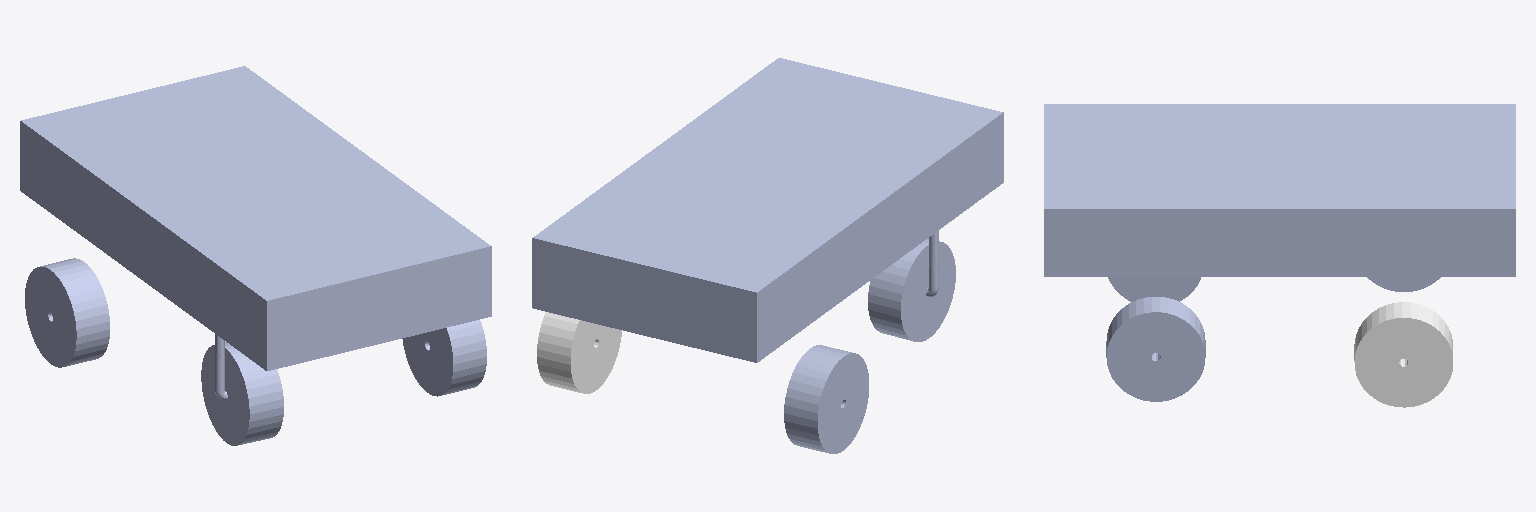
The robot description file, URDF, robot "4-w robot":
<?xml version="1.0" encoding="utf-8"?>
<!-- This URDF was automatically created by SolidWorks to URDF Exporter! Originally created by [author] ([email redacted]) 
     Commit Version: 1.6.0-4-g7f85cfe  Build Version: 1.6.7995.38578
     For more information, please see http://wiki.ros.org/sw_urdf_exporter -->
<robot
  name="4-w robot">
  <link
    name="base_link">
    <inertial>
      <origin
        xyz="0.32815 0.63195 0.72248"
        rpy="0 0 0" />
      <mass
        value="74.58" />
      <inertia
        ixx="5.9363"
        ixy="-1.0346E-14"
        ixz="4.269E-16"
        iyy="7.3965"
        iyz="9.6698E-17"
        izz="1.7491" />
    </inertial>
    <visual>
      <origin
        xyz="0 0 0"
        rpy="0 0 0" />
      <geometry>
        <mesh
          filename="package://4-w robot/meshes/base_link.STL" />
      </geometry>
      <material
        name="">
        <color
          rgba="0.79216 0.81961 0.93333 1" />
      </material>
    </visual>
    <collision>
      <origin
        xyz="0 0 0"
        rpy="0 0 0" />
      <geometry>
        <mesh
          filename="package://4-w robot/meshes/base_link.STL" />
      </geometry>
    </collision>
  </link>
  <link
    name="frontrightwheellink">
    <inertial>
      <origin
        xyz="-0.058668 0.0064681 0"
        rpy="0 0 0" />
      <mass
        value="0.056363" />
      <inertia
        ixx="1.2321E-05"
        ixy="-2.1388E-05"
        ixz="3.5958E-20"
        iyy="0.00014386"
        iyz="-1.2705E-20"
        izz="0.00015362" />
    </inertial>
    <visual>
      <origin
        xyz="0 0 0"
        rpy="0 0 0" />
      <geometry>
        <mesh
          filename="package://4-w robot/meshes/frontrightwheellink.STL" />
      </geometry>
      <material
        name="">
        <color
          rgba="0.79216 0.81961 0.93333 1" />
      </material>
    </visual>
    <collision>
      <origin
        xyz="0 0 0"
        rpy="0 0 0" />
      <geometry>
        <mesh
          filename="package://4-w robot/meshes/frontrightwheellink.STL" />
      </geometry>
    </collision>
  </link>
  <joint
    name="frontrightwheellinkjoint"
    type="revolute">
    <origin
      xyz="0.099545 -0.97648 0.40333"
      rpy="1.6082 1.5708 0" />
    <parent
      link="base_link" />
    <child
      link="frontrightwheellink" />
    <axis
      xyz="0 0 0" />
    <limit
      lower="0"
      upper="0"
      effort="0"
      velocity="0" />
  </joint>
  <link
    name="frontrightwheel">
    <inertial>
      <origin
        xyz="-1.1102E-16 0.0408 -1.1102E-16"
        rpy="0 0 0" />
      <mass
        value="2.4494" />
      <inertia
        ixx="0.0075617"
        ixy="-7.5783E-18"
        ixz="1.6941E-21"
        iyy="0.012753"
        iyz="-1.4339E-17"
        izz="0.0075617" />
    </inertial>
    <visual>
      <origin
        xyz="0 0 0"
        rpy="0 0 0" />
      <geometry>
        <mesh
          filename="package://4-w robot/meshes/frontrightwheel.STL" />
      </geometry>
      <material
        name="">
        <color
          rgba="0.79216 0.81961 0.93333 1" />
      </material>
    </visual>
    <collision>
      <origin
        xyz="0 0 0"
        rpy="0 0 0" />
      <geometry>
        <mesh
          filename="package://4-w robot/meshes/frontrightwheel.STL" />
      </geometry>
    </collision>
  </link>
  <joint
    name="frontrightwheeljoint"
    type="fixed">
    <origin
      xyz="0 0.01 0"
      rpy="3.1416 0.0027121 3.1416" />
    <parent
      link="frontrightwheellink" />
    <child
      link="frontrightwheel" />
    <axis
      xyz="0 0 0" />
  </joint>
  <link
    name="frontleftwheellink">
    <inertial>
      <origin
        xyz="-0.058668365874023 0.00646808125522658 0"
        rpy="0 0 0" />
      <mass
        value="0.056363037029715" />
      <inertia
        ixx="1.23212695505758E-05"
        ixy="-2.13878982488817E-05"
        ixz="-7.23607224845394E-20"
        iyy="0.000143856643975693"
        iyz="-6.59032849782056E-21"
        izz="0.00015362112764556" />
    </inertial>
    <visual>
      <origin
        xyz="0 0 0"
        rpy="0 0 0" />
      <geometry>
        <mesh
          filename="package://4-w robot/meshes/frontleftwheellink.STL" />
      </geometry>
      <material
        name="">
        <color
          rgba="0.792156862745098 0.819607843137255 0.933333333333333 1" />
      </material>
    </visual>
    <collision>
      <origin
        xyz="0 0 0"
        rpy="0 0 0" />
      <geometry>
        <mesh
          filename="package://4-w robot/meshes/frontleftwheellink.STL" />
      </geometry>
    </collision>
  </link>
  <joint
    name="frontleftwheellinkjoint"
    type="fixed">
    <origin
      xyz="0.55675 -0.97648 0.40333"
      rpy="1.5708 1.5708 0" />
    <parent
      link="base_link" />
    <child
      link="frontleftwheellink" />
    <axis
      xyz="0 0 0" />
  </joint>
  <link
    name="frontleftwheel">
    <inertial>
      <origin
        xyz="-5.5511E-17 0.0381 -2.2204E-16"
        rpy="0 0 0" />
      <mass
        value="2.4494" />
      <inertia
        ixx="0.0075617"
        ixy="-7.0137E-18"
        ixz="4.7432E-33"
        iyy="0.012753"
        iyz="-3.6826E-18"
        izz="0.0075617" />
    </inertial>
    <visual>
      <origin
        xyz="0 0 0"
        rpy="0 0 0" />
      <geometry>
        <mesh
          filename="package://4-w robot/meshes/frontleftwheel.STL" />
      </geometry>
      <material
        name="">
        <color
          rgba="0.79216 0.81961 0.93333 1" />
      </material>
    </visual>
    <collision>
      <origin
        xyz="0 0 0"
        rpy="0 0 0" />
      <geometry>
        <mesh
          filename="package://4-w robot/meshes/frontleftwheel.STL" />
      </geometry>
    </collision>
  </link>
  <joint
    name="frontleftwheeljoint"
    type="continuous">
    <origin
      xyz="0 0.0889 0"
      rpy="0 0 3.1416" />
    <parent
      link="frontleftwheellink" />
    <child
      link="frontleftwheel" />
    <axis
      xyz="0 0 0" />
  </joint>
  <link
    name="backrightwheel">
    <inertial>
      <origin
        xyz="-3.05311331771918E-16 0.038100000000002 -2.22044604925031E-16"
        rpy="0 0 0" />
      <mass
        value="2.44939228473986" />
      <inertia
        ixx="0.00756174281198395"
        ixy="-5.7592835610494E-18"
        ixz="-2.16840434497101E-19"
        iyy="0.0127531107343337"
        iyz="4.41673265115696E-18"
        izz="0.00756174281198395" />
    </inertial>
    <visual>
      <origin
        xyz="0 0 0"
        rpy="0 0 0" />
      <geometry>
        <mesh
          filename="package://4-w robot/meshes/backrightwheel.STL" />
      </geometry>
      <material
        name="">
        <color
          rgba="0.792156862745098 0.819607843137255 0.933333333333333 1" />
      </material>
    </visual>
    <collision>
      <origin
        xyz="0 0 0"
        rpy="0 0 0" />
      <geometry>
        <mesh
          filename="package://4-w robot/meshes/backrightwheel.STL" />
      </geometry>
    </collision>
  </link>
  <joint
    name="backrightwheeljoint"
    type="continuous">
    <origin
      xyz="0.010645 -0.46848 0.39063"
      rpy="0 1.1039 -1.5708" />
    <parent
      link="base_link" />
    <child
      link="backrightwheel" />
    <axis
      xyz="0 1 0" />
  </joint>
  <link
    name="backleftwheel">
    <inertial>
      <origin
        xyz="0 0 0"
        rpy="0 0 0" />
      <mass
        value="0" />
      <inertia
        ixx="0"
        ixy="0"
        ixz="0"
        iyy="0"
        iyz="0"
        izz="0" />
    </inertial>
    <visual>
      <origin
        xyz="0 0 0"
        rpy="0 0 0" />
      <geometry>
        <mesh
          filename="package://4-w robot/meshes/backleftwheel.STL" />
      </geometry>
      <material
        name="">
        <color
          rgba="1 1 1 1" />
      </material>
    </visual>
    <collision>
      <origin
        xyz="0 0 0"
        rpy="0 0 0" />
      <geometry>
        <mesh
          filename="package://4-w robot/meshes/backleftwheel.STL" />
      </geometry>
    </collision>
  </link>
  <joint
    name="backleftwheeljoint"
    type="continuous">
    <origin
      xyz="0.569445167208001 -0.468481615855647 0.390627691768205"
      rpy="-3.14159265358979 -0.301241685280042 -1.5707963267949" />
    <parent
      link="base_link" />
    <child
      link="backleftwheel" />
    <axis
      xyz="0 1 0" />
  </joint>
</robot>

--- What the picture shows (computed from the rendered views, not written in the file) ---
Views: 3 orthographic renders of the robot side by side, from view 1: azimuth 30°, elevation 25°; view 2: azimuth 150°, elevation 25°; view 3: azimuth 270°, elevation 25°.
Robot: 4-w robot — 7 links, 6 joints (1 revolute, 3 continuous, 2 fixed); root link base_link; default pose: every joint at zero.
Links seen in each view (by area): view 1: base_link, backrightwheel, frontrightwheel, frontleftwheel, frontrightwheellink; view 2: base_link, backrightwheel, frontrightwheel, backleftwheel, frontrightwheellink; view 3: base_link, frontleftwheel, backleftwheel, frontrightwheel, backrightwheel.
Link boxes in pixels (x1,y1,x2,y2): base_link: (20,66,491,370); backrightwheel: (25,258,109,367); frontrightwheel: (201,342,283,445); frontleftwheel: (402,320,486,396); frontrightwheellink: (215,334,227,399); base_link: (532,58,1003,362); backrightwheel: (784,345,868,453); frontrightwheel: (868,238,955,341); backleftwheel: (537,312,621,393); frontrightwheellink: (926,231,938,296); base_link: (1044,104,1515,276); frontleftwheel: (1106,297,1205,401); backleftwheel: (1354,302,1452,407); frontrightwheel: (1108,277,1200,301); backrightwheel: (1367,277,1440,291).
Size in the robot's own frame: 0.635 by 0.9652 by 0.4191 metres.
6 mesh visuals loaded from 7 distinct referenced files (6 binary STL); not drawn: 1 (reference not matched to a file when rendering).